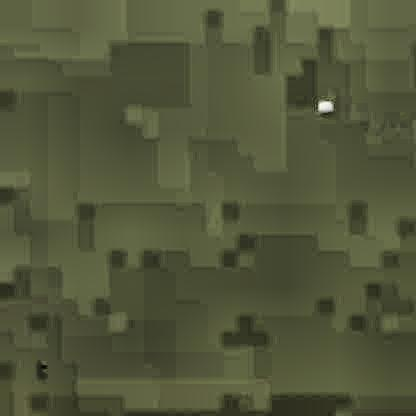golfball: (316, 98, 331, 112)
